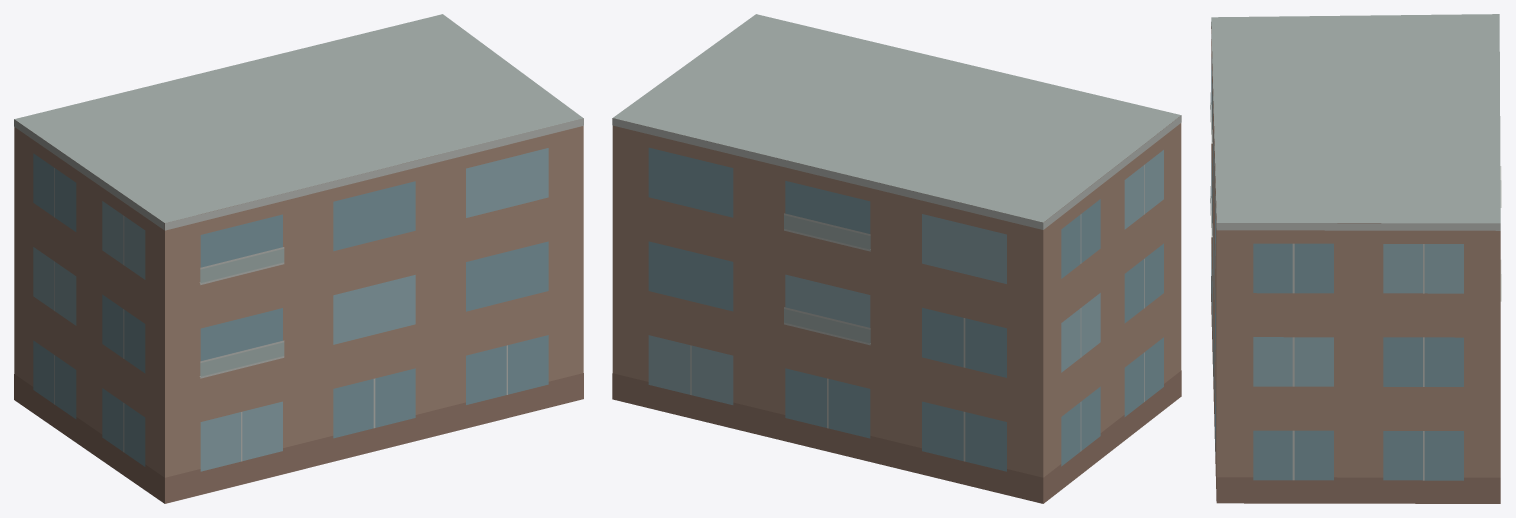
File: survey-upis-32496891.glb
3 renders of one model, left to right at view 1: azimuth 30°, elevation 25°; view 2: azimuth 150°, elevation 25°; view 3: azimuth 270°, elevation 25°, orthographic.
Visible parts, largest first — view 1: survey-upis-32496891.tmp; view 2: survey-upis-32496891.tmp; view 3: survey-upis-32496891.tmp.
Part boxes in pixels (x1,y1,x2,y2): survey-upis-32496891.tmp: (14, 14, 583, 503); survey-upis-32496891.tmp: (612, 14, 1181, 503); survey-upis-32496891.tmp: (1210, 14, 1501, 503).
Bounding box in the file's own units: 14.65 × 9.15 × 8.61.
